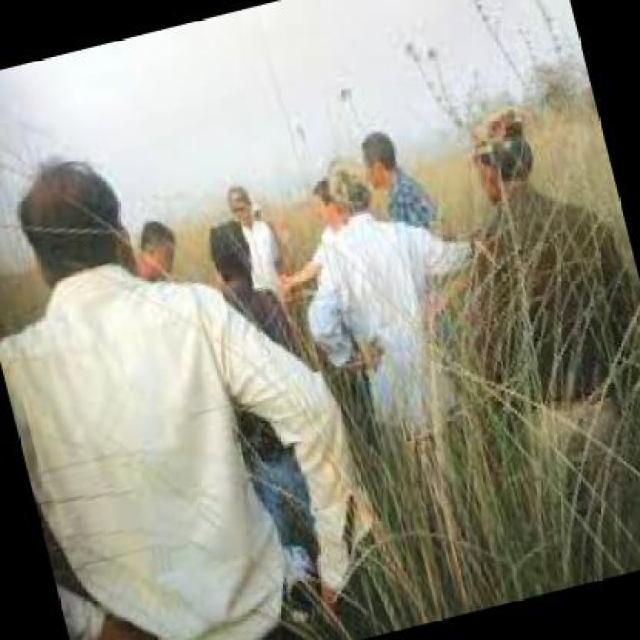poacher: (2, 154, 206, 556), (457, 99, 615, 418), (312, 158, 420, 448), (212, 175, 291, 258), (356, 134, 446, 196)
